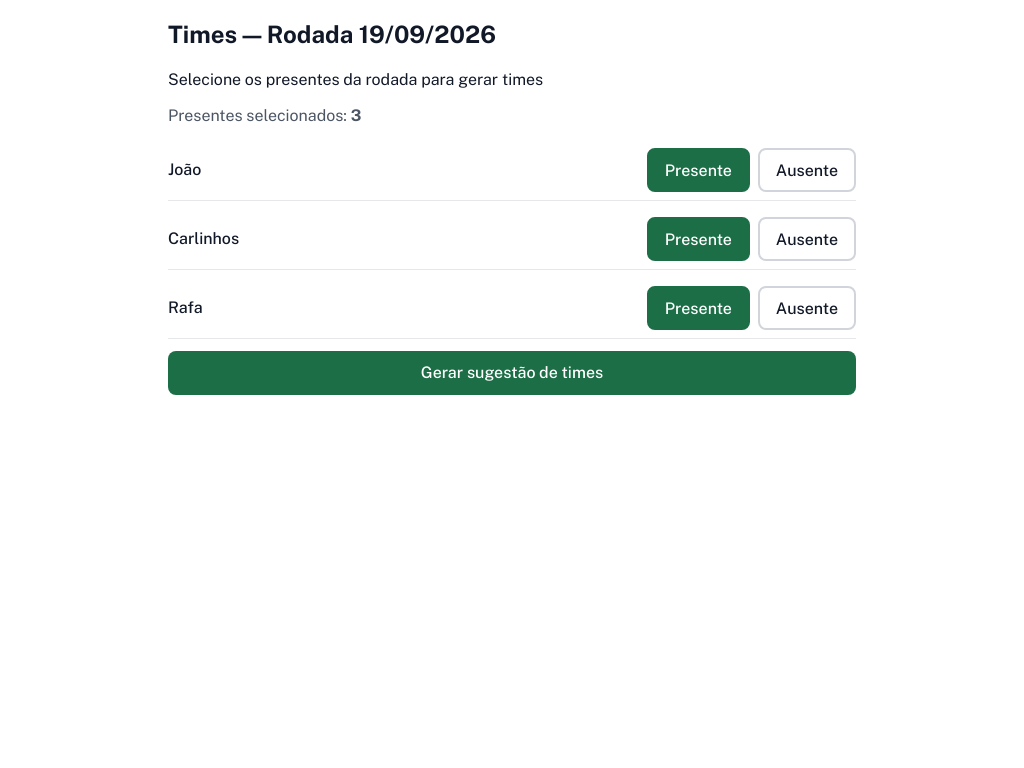
Test: MontagemTimesShell › Confirmar Times com sucesso mostra toast de sucesso
The width and height of the screenshot is (1024, 768).
Expected: the heading "Times — Rodada 19/09/2026" is shown, [168,20,496,48]
Click the button "Gerar sugestão de times": {"x": 512, "y": 373} [168,351,856,395]
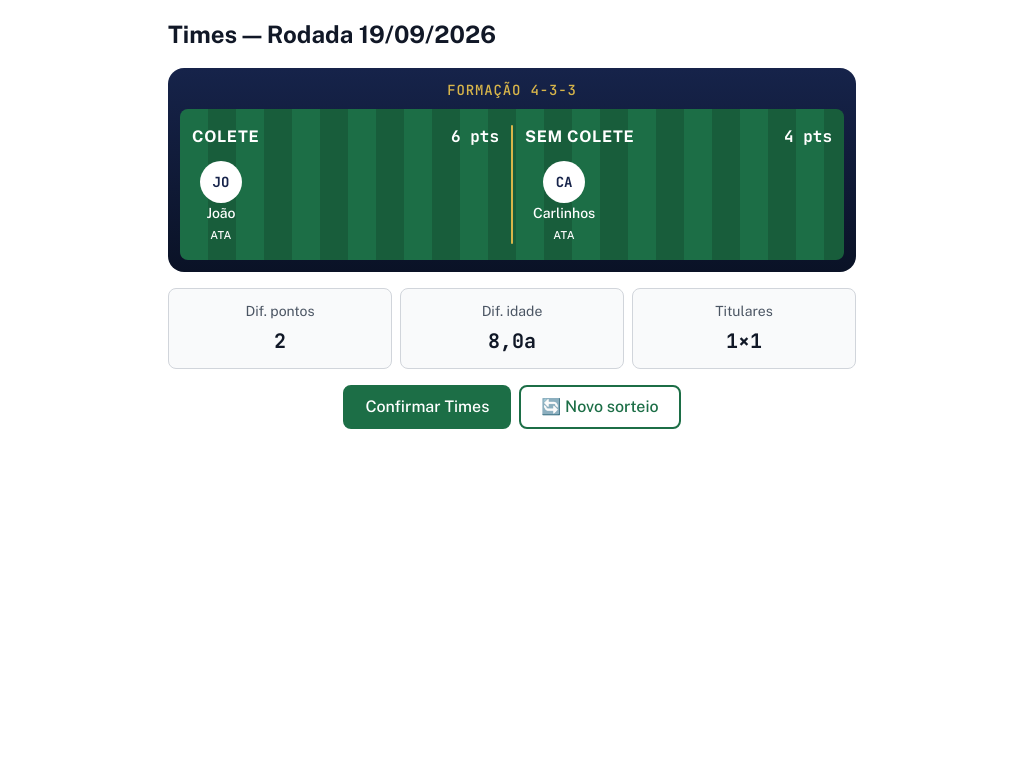
Now the heading "Colete" is shown, box [192,125,259,149]
Click the button "Confirmar Times": {"x": 427, "y": 406} [343,384,511,428]
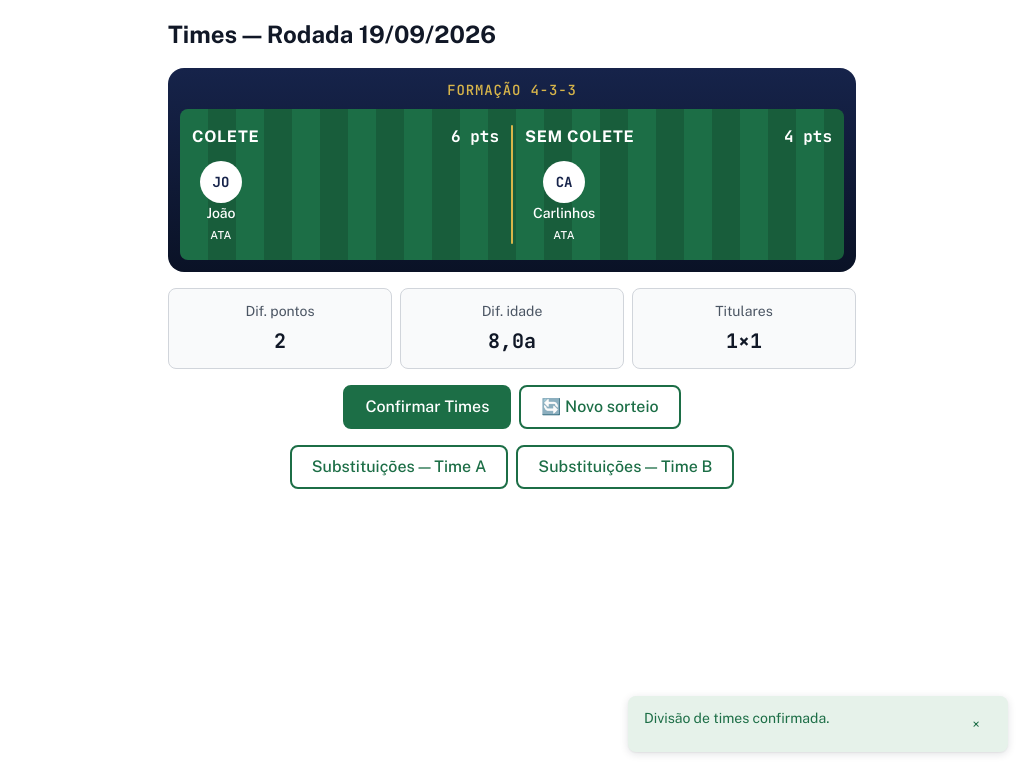
Now the text "Divisão de times confirmada." is shown, box [644,710,829,726]
